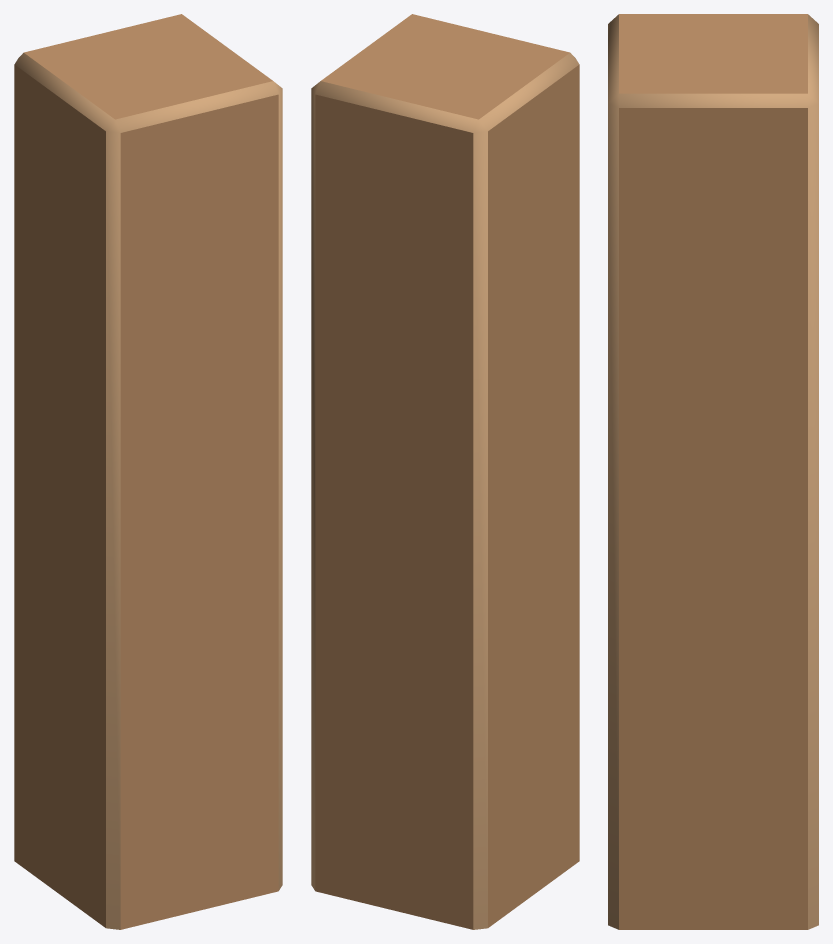
Rendered from Pilar_E_1.obj.
3 renders of one model, left to right at view 1: azimuth 30°, elevation 25°; view 2: azimuth 150°, elevation 25°; view 3: azimuth 270°, elevation 25°, orthographic. The views are drawn at different scales.
Parts seen in each view (by area): view 1: Pilar_E_1; view 2: Pilar_E_1; view 3: Pilar_E_1.
Boxes of the visible parts, left/top/right/bottom form: Pilar_E_1: left=14, top=14, right=282, bottom=929; Pilar_E_1: left=311, top=14, right=579, bottom=929; Pilar_E_1: left=608, top=14, right=818, bottom=929.
Bounding box in the file's own units: 0.5496 × 2.4 × 0.551.
